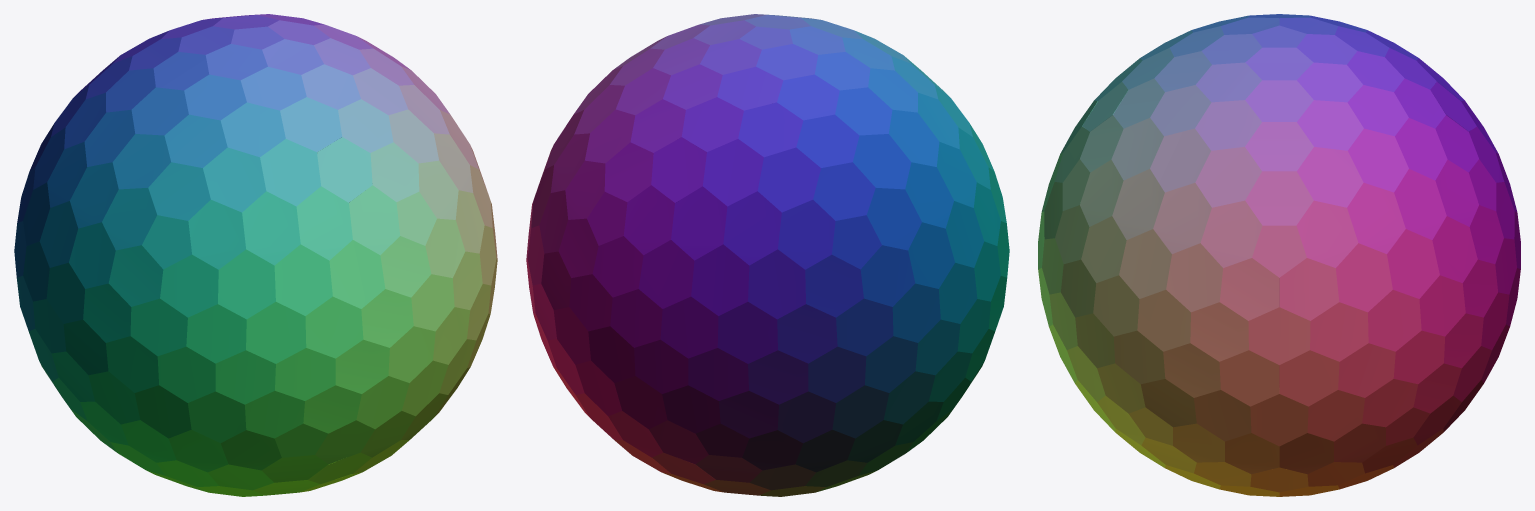
Rendered from EffectMesh0298.FBX.
The picture shows the model from 3 angles, left to right: view 1: azimuth 30°, elevation 25°; view 2: azimuth 150°, elevation 25°; view 3: azimuth 270°, elevation 25°; orthographic projection.
Parts seen in each view (by area): view 1: SM_Energy_Box004d1; view 2: SM_Energy_Box004d1; view 3: SM_Energy_Box004d1.
Boxes of the visible parts, <box> form: SM_Energy_Box004d1: <box>14,14,497,496</box>; SM_Energy_Box004d1: <box>526,14,1009,496</box>; SM_Energy_Box004d1: <box>1038,14,1520,496</box>.
Size of the model in its own units: 77.95 by 77.46 by 77.82.
